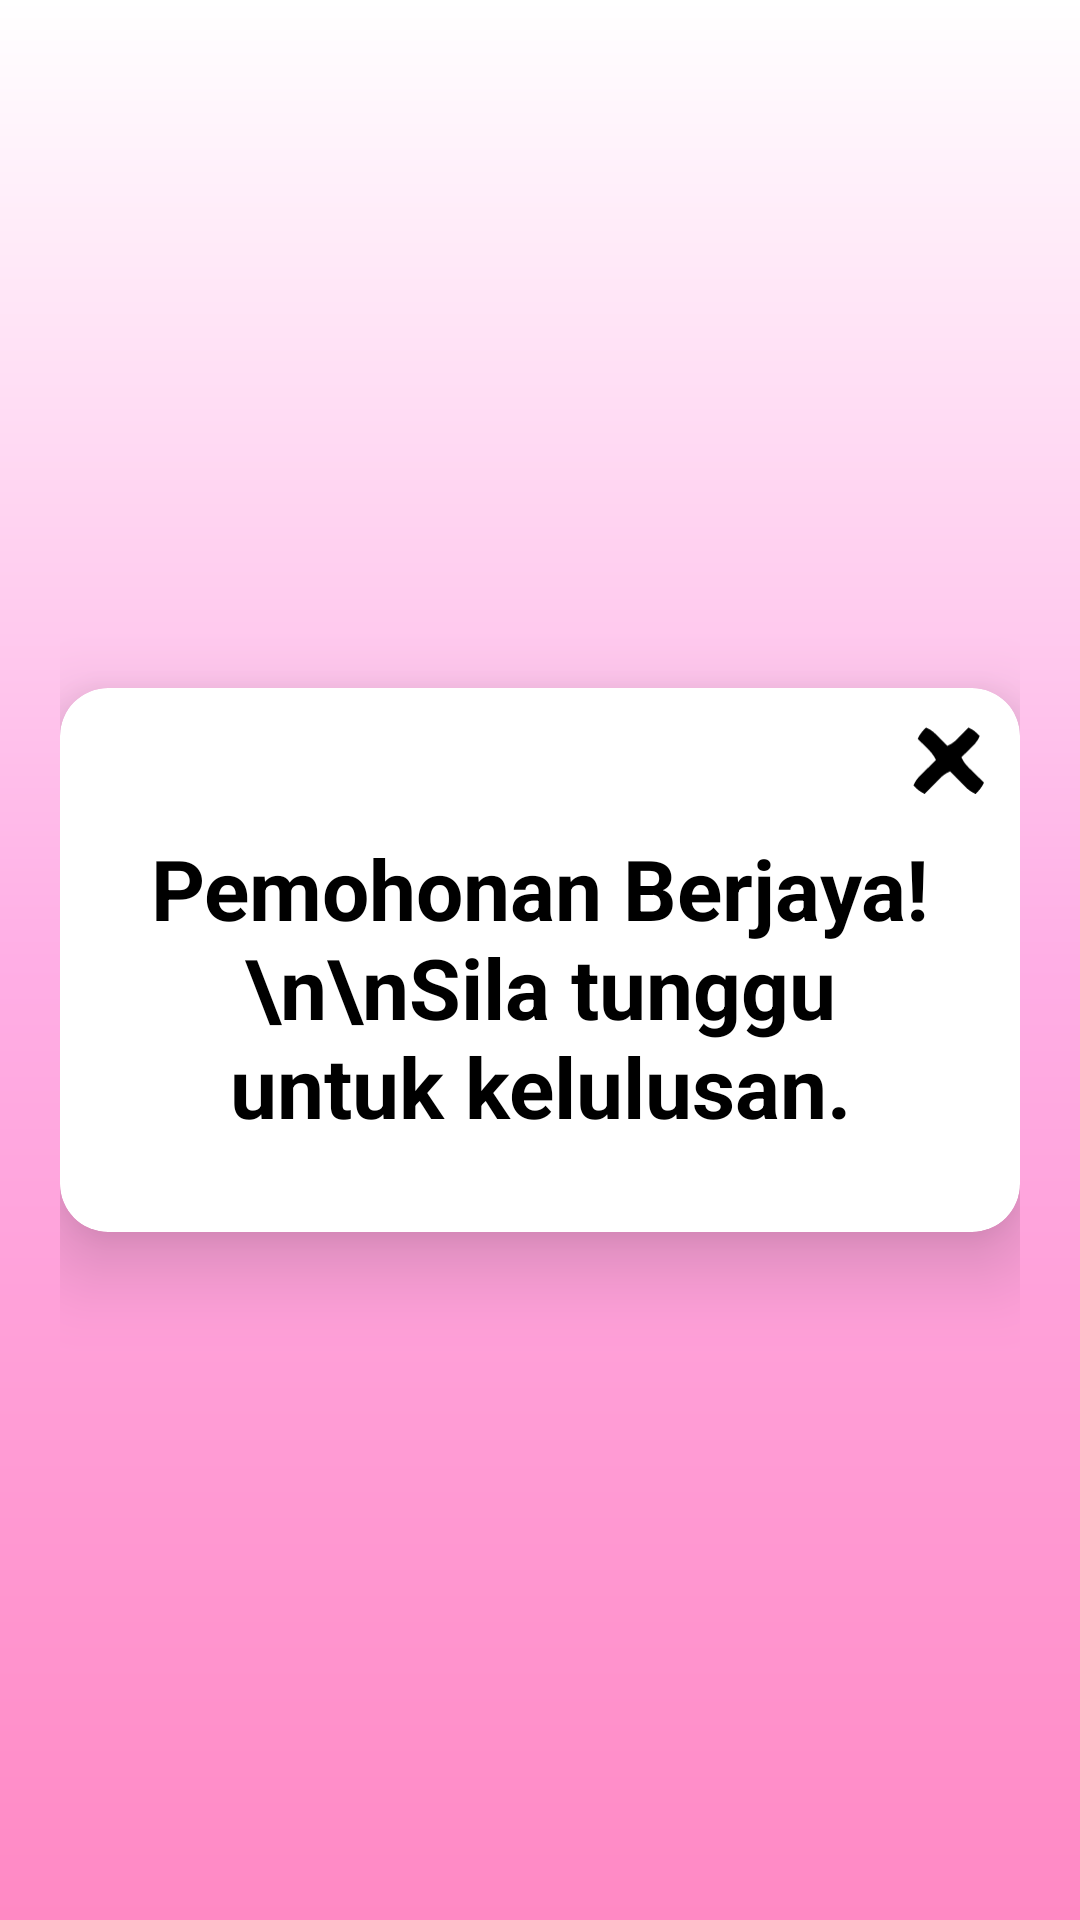

Point at icon controls on the screen. Image size 1080 × 1920, points as [x,y].
Close: [948,760]
